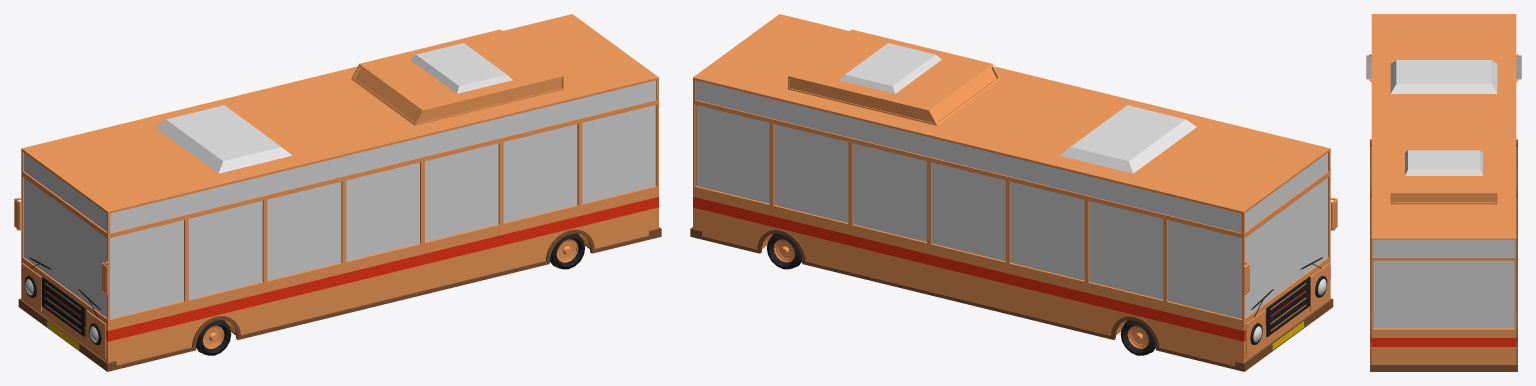
Rendered from bus.glb.
3 renders of one model, left to right at view 1: azimuth 30°, elevation 25°; view 2: azimuth 150°, elevation 25°; view 3: azimuth 270°, elevation 25°, orthographic. The views are drawn at different scales.
Parts seen in each view (by area): view 1: Car; view 2: Car; view 3: Car.
Boxes of the visible parts, box(x1,y1,x2,y2) form: Car: box(14, 14, 661, 371); Car: box(690, 14, 1337, 371); Car: box(1366, 14, 1521, 371).
Size of the model in its own units: 7.43 by 2.43 by 2.15.
